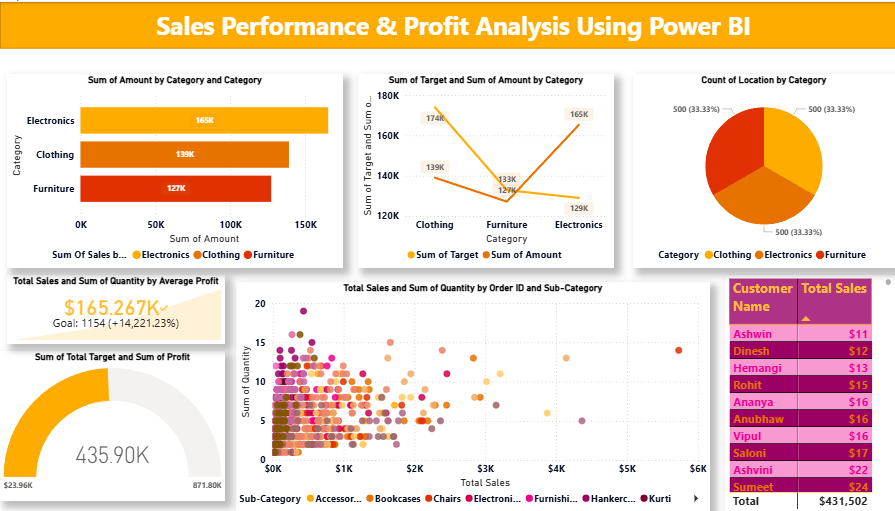

The dashboard page shown, as its layout file describes it:
{"tool":"powerbi","page":{"name":"DashBoard 1","canvas":[1280,720],"ordinal":0},"visuals":[{"type":"shape","box":[0,0,1280.6,65.7],"z":0},{"type":"tableEx","fields":{"Values":["List of Orders.CustomerName","List of Orders.Total Sales"]},"box":[1023.5,385.4,240,334.6],"z":1000},{"type":"lineChart","fields":{"Category":["Order - Profit.Category"],"Y":["Sum(Sales target.Target)","Sum(Order Details.Amount)"]},"box":[505.4,101.6,361.4,273.9],"z":2000},{"type":"barChart","fields":{"Y":["Sum(Order Details.Amount)"],"Category":["Order - Profit.Category"],"Series":["Order - Profit.Category"]},"box":[9.9,101.6,474.4,273.9],"z":3000},{"type":"pieChart","fields":{"Category":["Order Details.Category"],"Y":["CountNonNull(List of Orders.Location)"]},"box":[893.6,101.6,369.9,273.9],"z":4000},{"type":"kpi","fields":{"Indicator":["List of Orders.Total Sales"],"TrendLine":["Order - Profit.Average Profit"],"Goal":["Sum(Order Details.Quantity)"]},"box":[9.9,385.4,307.8,97.4],"z":5000},{"type":"gauge","fields":{"Y":["Sum(Sales target - Summary.Total Target)"],"MinValue":["Sum(Order Details.Profit)"]},"box":[0,492.7,317.6,211.8],"z":6000},{"type":"scatterChart","fields":{"Category":["List of Orders.Order ID"],"X":["List of Orders.Total Sales"],"Series":["Order Details.Sub-Category"],"Y":["Sum(Order Details.Quantity)"]},"box":[333.2,395.3,669.2,324.7],"z":7000}]}

Visuals, with their boxes in screenshot pixels (x1, y1, x2, y2), scaled from the page's 1280x720 canvas onto the 895x511 screenshot:
shape: box=[0, 0, 894, 47]
tableEx - List of Orders.CustomerName x List of Orders.Total Sales: box=[716, 274, 883, 510]
lineChart - Order - Profit.Category x Sum(Sales target.Target): box=[353, 72, 606, 267]
barChart - Sum(Order Details.Amount) x Order - Profit.Category: box=[7, 72, 339, 267]
pieChart - Order Details.Category x CountNonNull(List of Orders.Location): box=[625, 72, 883, 267]
kpi - List of Orders.Total Sales x Order - Profit.Average Profit: box=[7, 274, 222, 343]
gauge - Sum(Sales target - Summary.Total Target) x Sum(Order Details.Profit): box=[0, 350, 222, 500]
scatterChart - List of Orders.Order ID x List of Orders.Total Sales: box=[233, 281, 701, 510]
